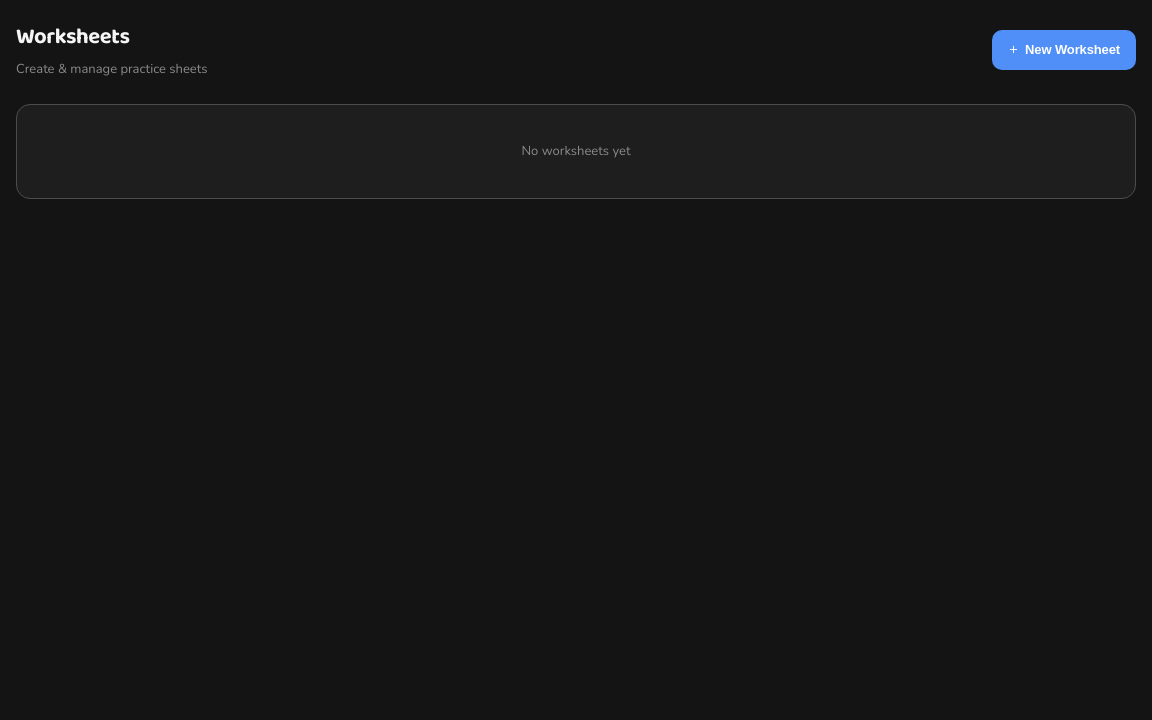
Test: worksheet editor stays open and reports a failed save
Step 1. Click the button "New Worksheet" → (1064, 50), box [992,30,1136,70]
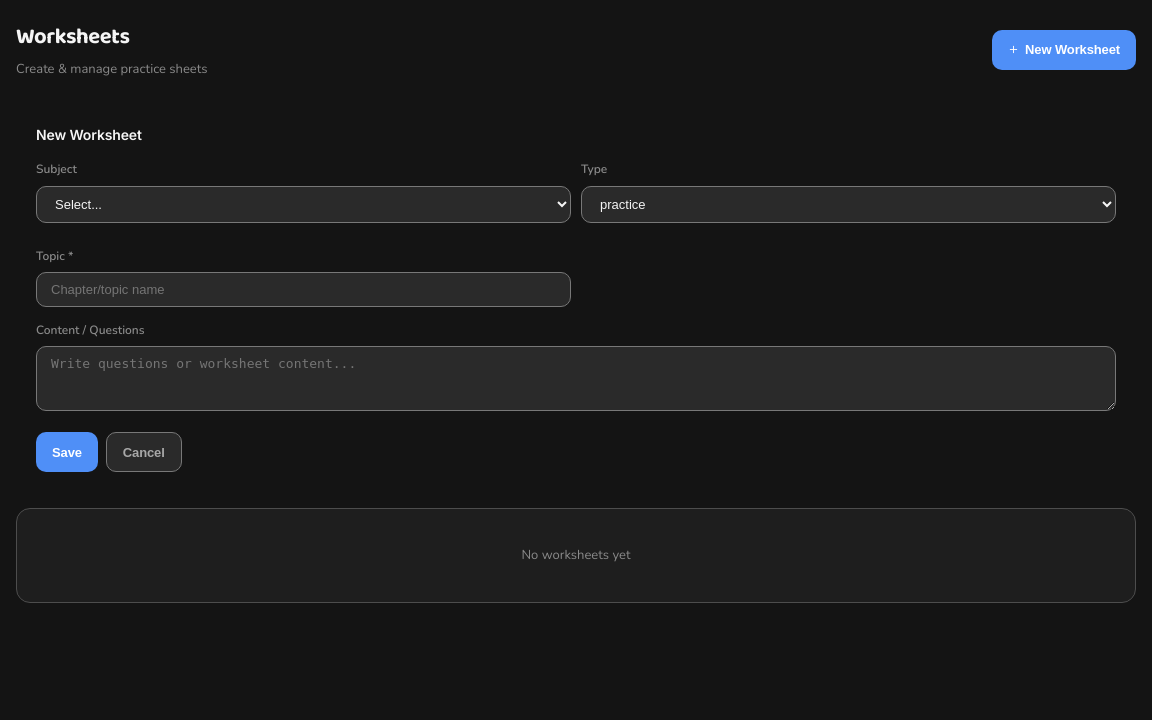
Step 2. Type "Fractions" into the field with placeholder "Chapter/topic name" → (304, 289), box [36,272,571,307]
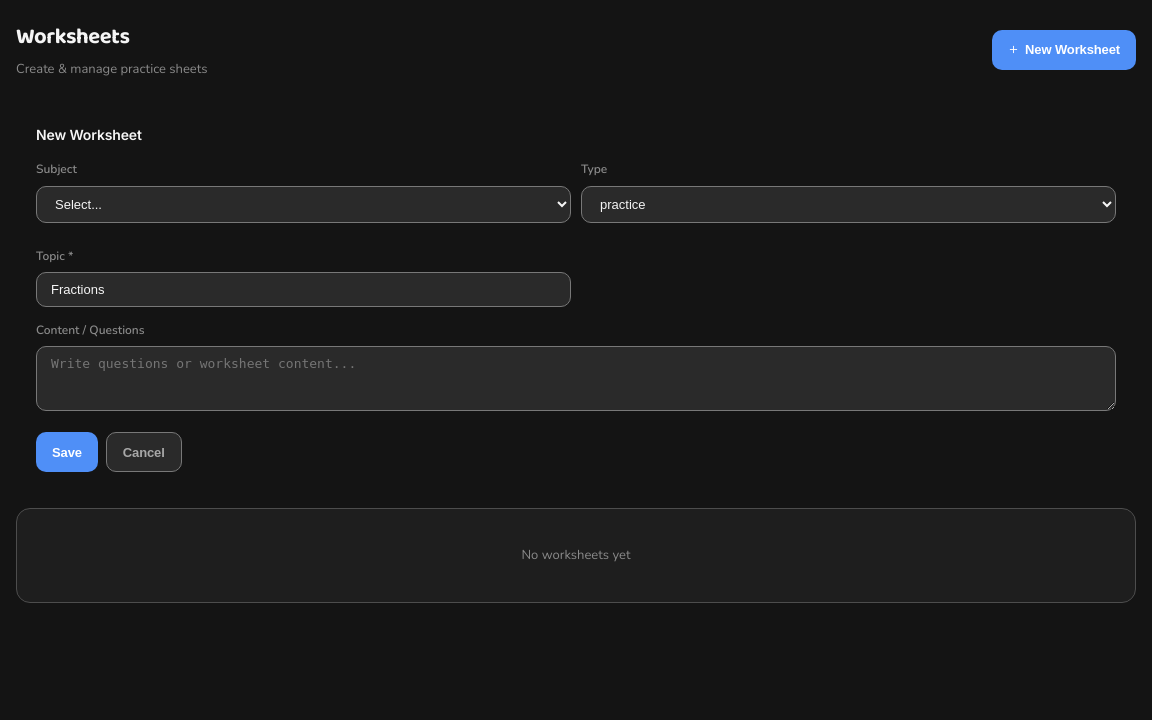
Step 3. Click the button "Save" → (67, 452), box [36,432,98,472]
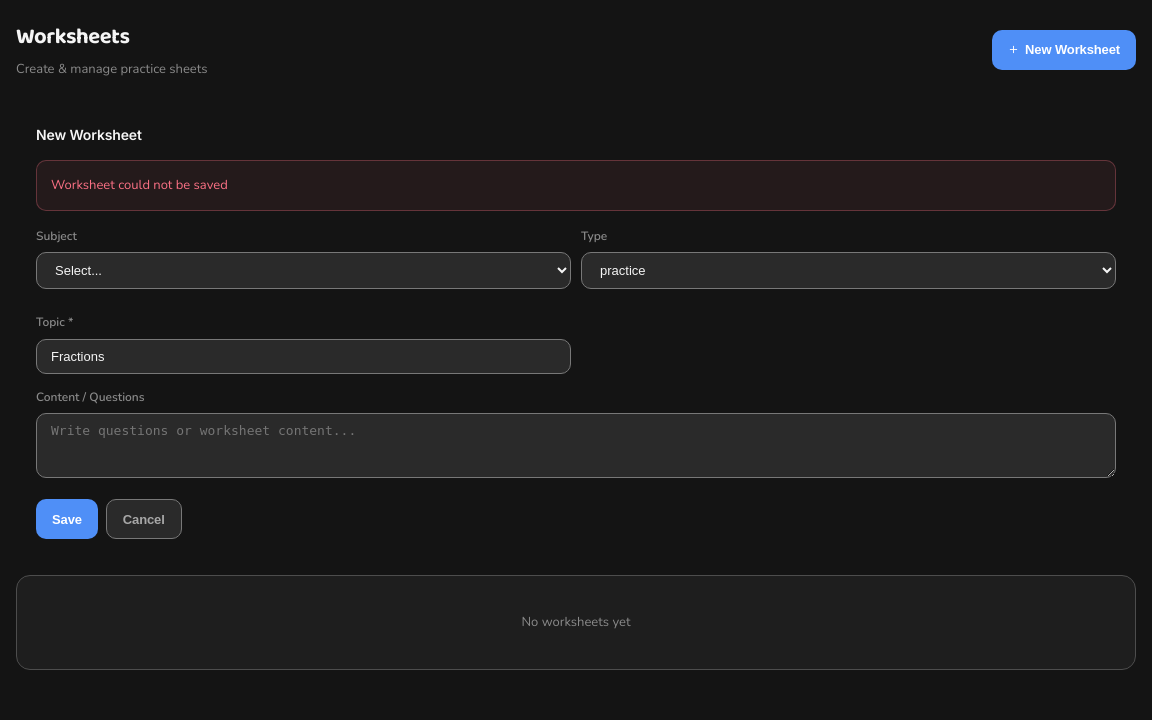
expect the message reads "Worksheet could not be saved": met, box [51,176,228,194]
